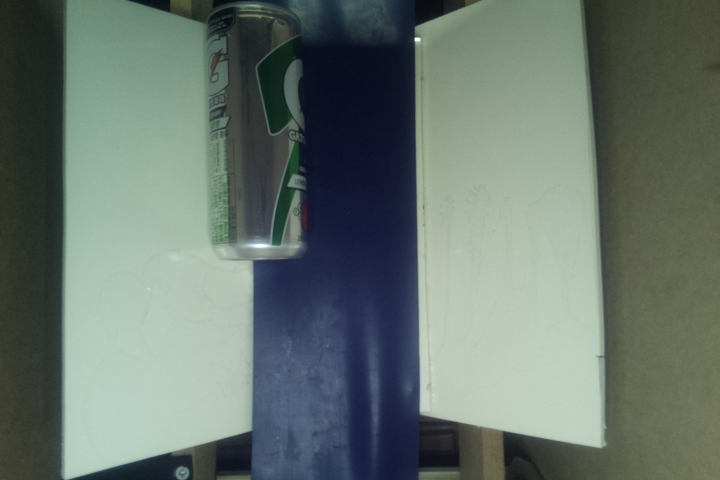can: (206, 1, 308, 265)
